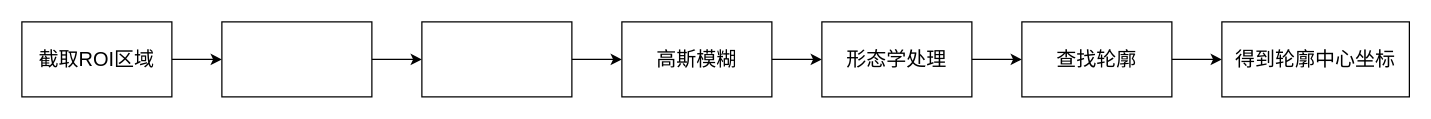
Some shapes in this 1431 by 119 pixel diagram are drawn without their labels. Each missing label, with the centre of its shape:
"转为灰度图像" goes at (296,59).
"除去背景色" goes at (496,59).
